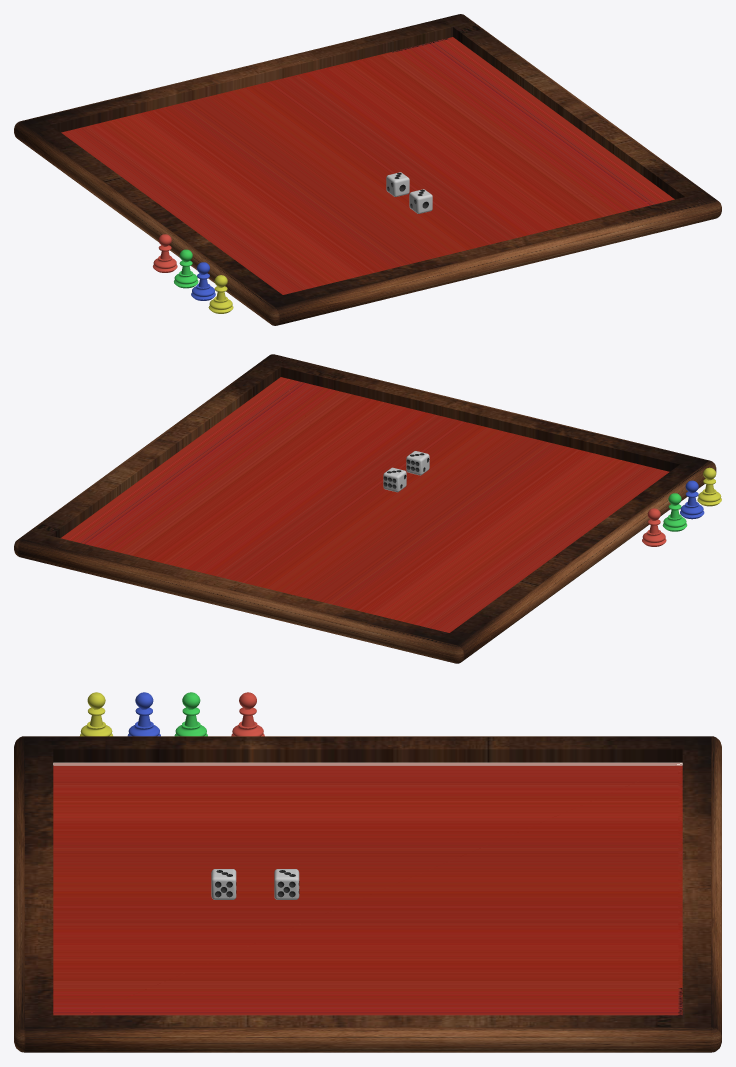
The model's file is Snakes and Ladders.fbx.
3 renders of one model, top to bottom at view 1: azimuth 30°, elevation 25°; view 2: azimuth 150°, elevation 25°; view 3: azimuth 270°, elevation 25°, orthographic. The views are drawn at different scales.
Visible parts, largest first — view 1: Game_peace_and_snake, Lathe, Lathe_3, Lathe_2, Lathe_1; view 2: Game_peace_and_snake, Lathe_1, Lathe_3, Lathe_2, Lathe; view 3: Game_peace_and_snake, Lathe_3, Lathe_1, Lathe, Lathe_2, Cube, Cube_2.
Boxes of the visible parts, x1,y1,x2,y2 form: Game_peace_and_snake: (14,14,721,325); Lathe: (208,275,233,313); Lathe_3: (153,234,177,272); Lathe_2: (174,249,198,288); Lathe_1: (191,262,215,300); Game_peace_and_snake: (14,354,716,663); Lathe_1: (680,480,704,519); Lathe_3: (642,508,666,546); Lathe_2: (662,493,687,531); Lathe: (697,467,721,506); Game_peace_and_snake: (14,736,721,1052); Lathe_3: (231,692,264,736); Lathe_1: (127,692,160,736); Lathe: (80,692,112,736); Lathe_2: (174,692,207,736); Cube: (211,869,236,899); Cube_2: (274,869,299,899).
Bounding box in the file's own units: 214 × 15.42 × 200.
8 materials, 2 textured.
